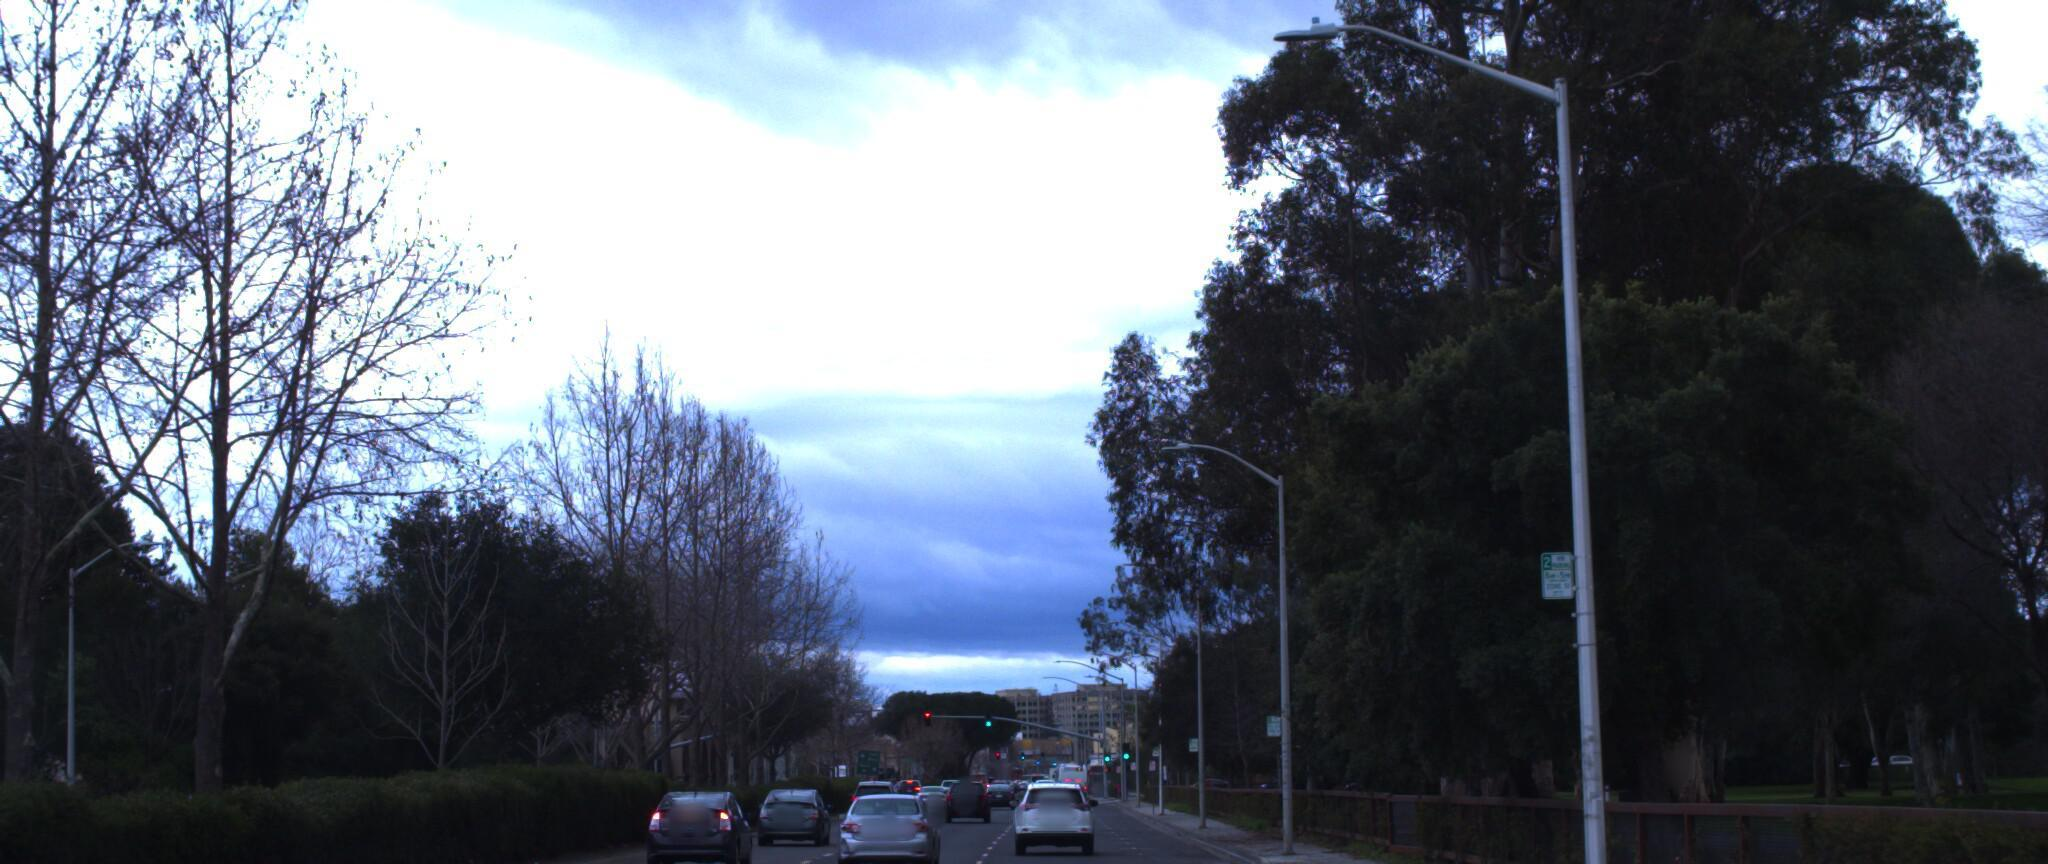car: (822, 775, 933, 859), (644, 783, 758, 864), (1003, 777, 1084, 856), (0, 814, 127, 864)
